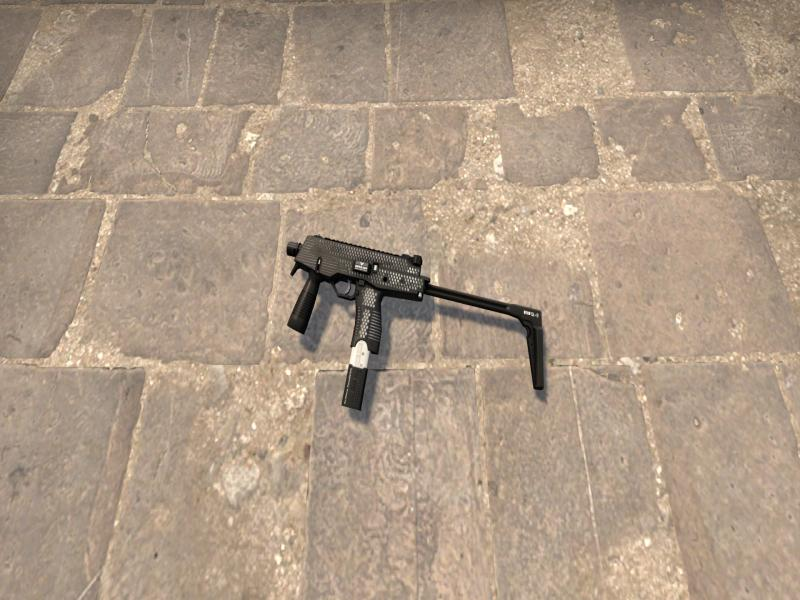MP9: (287, 234, 544, 409)
